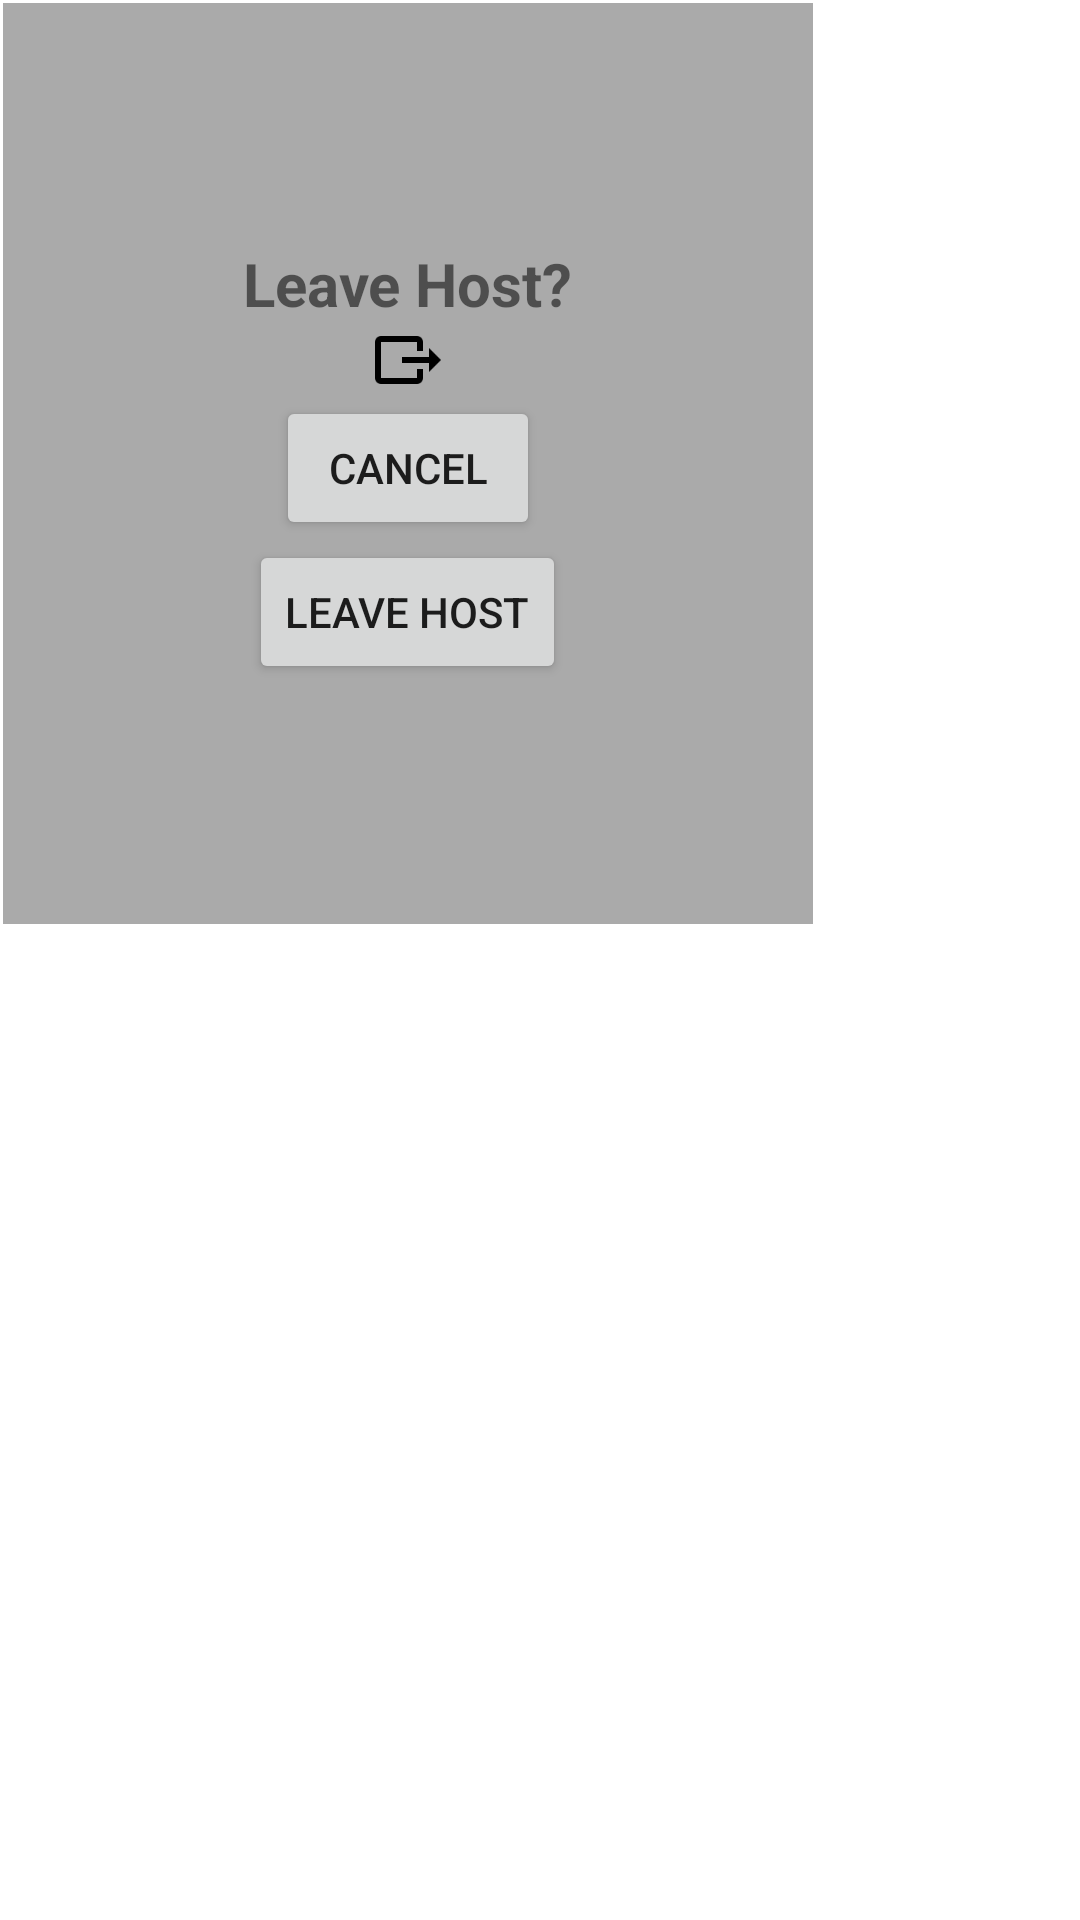

Icons on this 1080 x 1920 Android screen, each with the point to tap as [x,y]:
export: [408,360]
